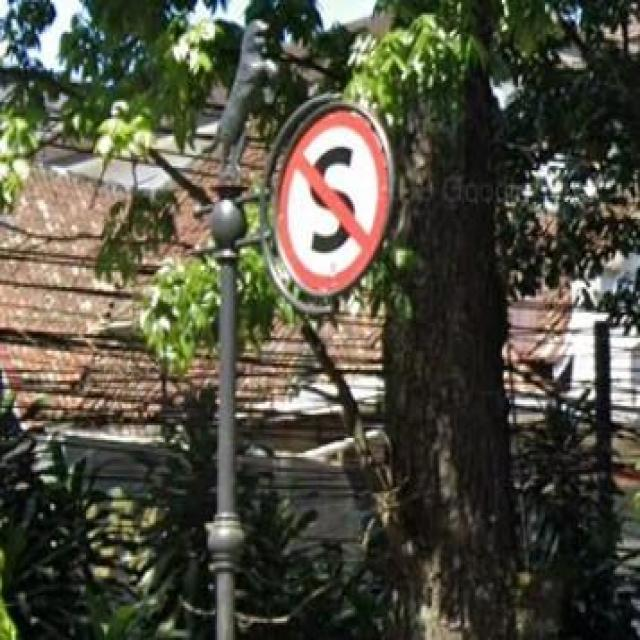traffic sign: (280, 109, 390, 296)
